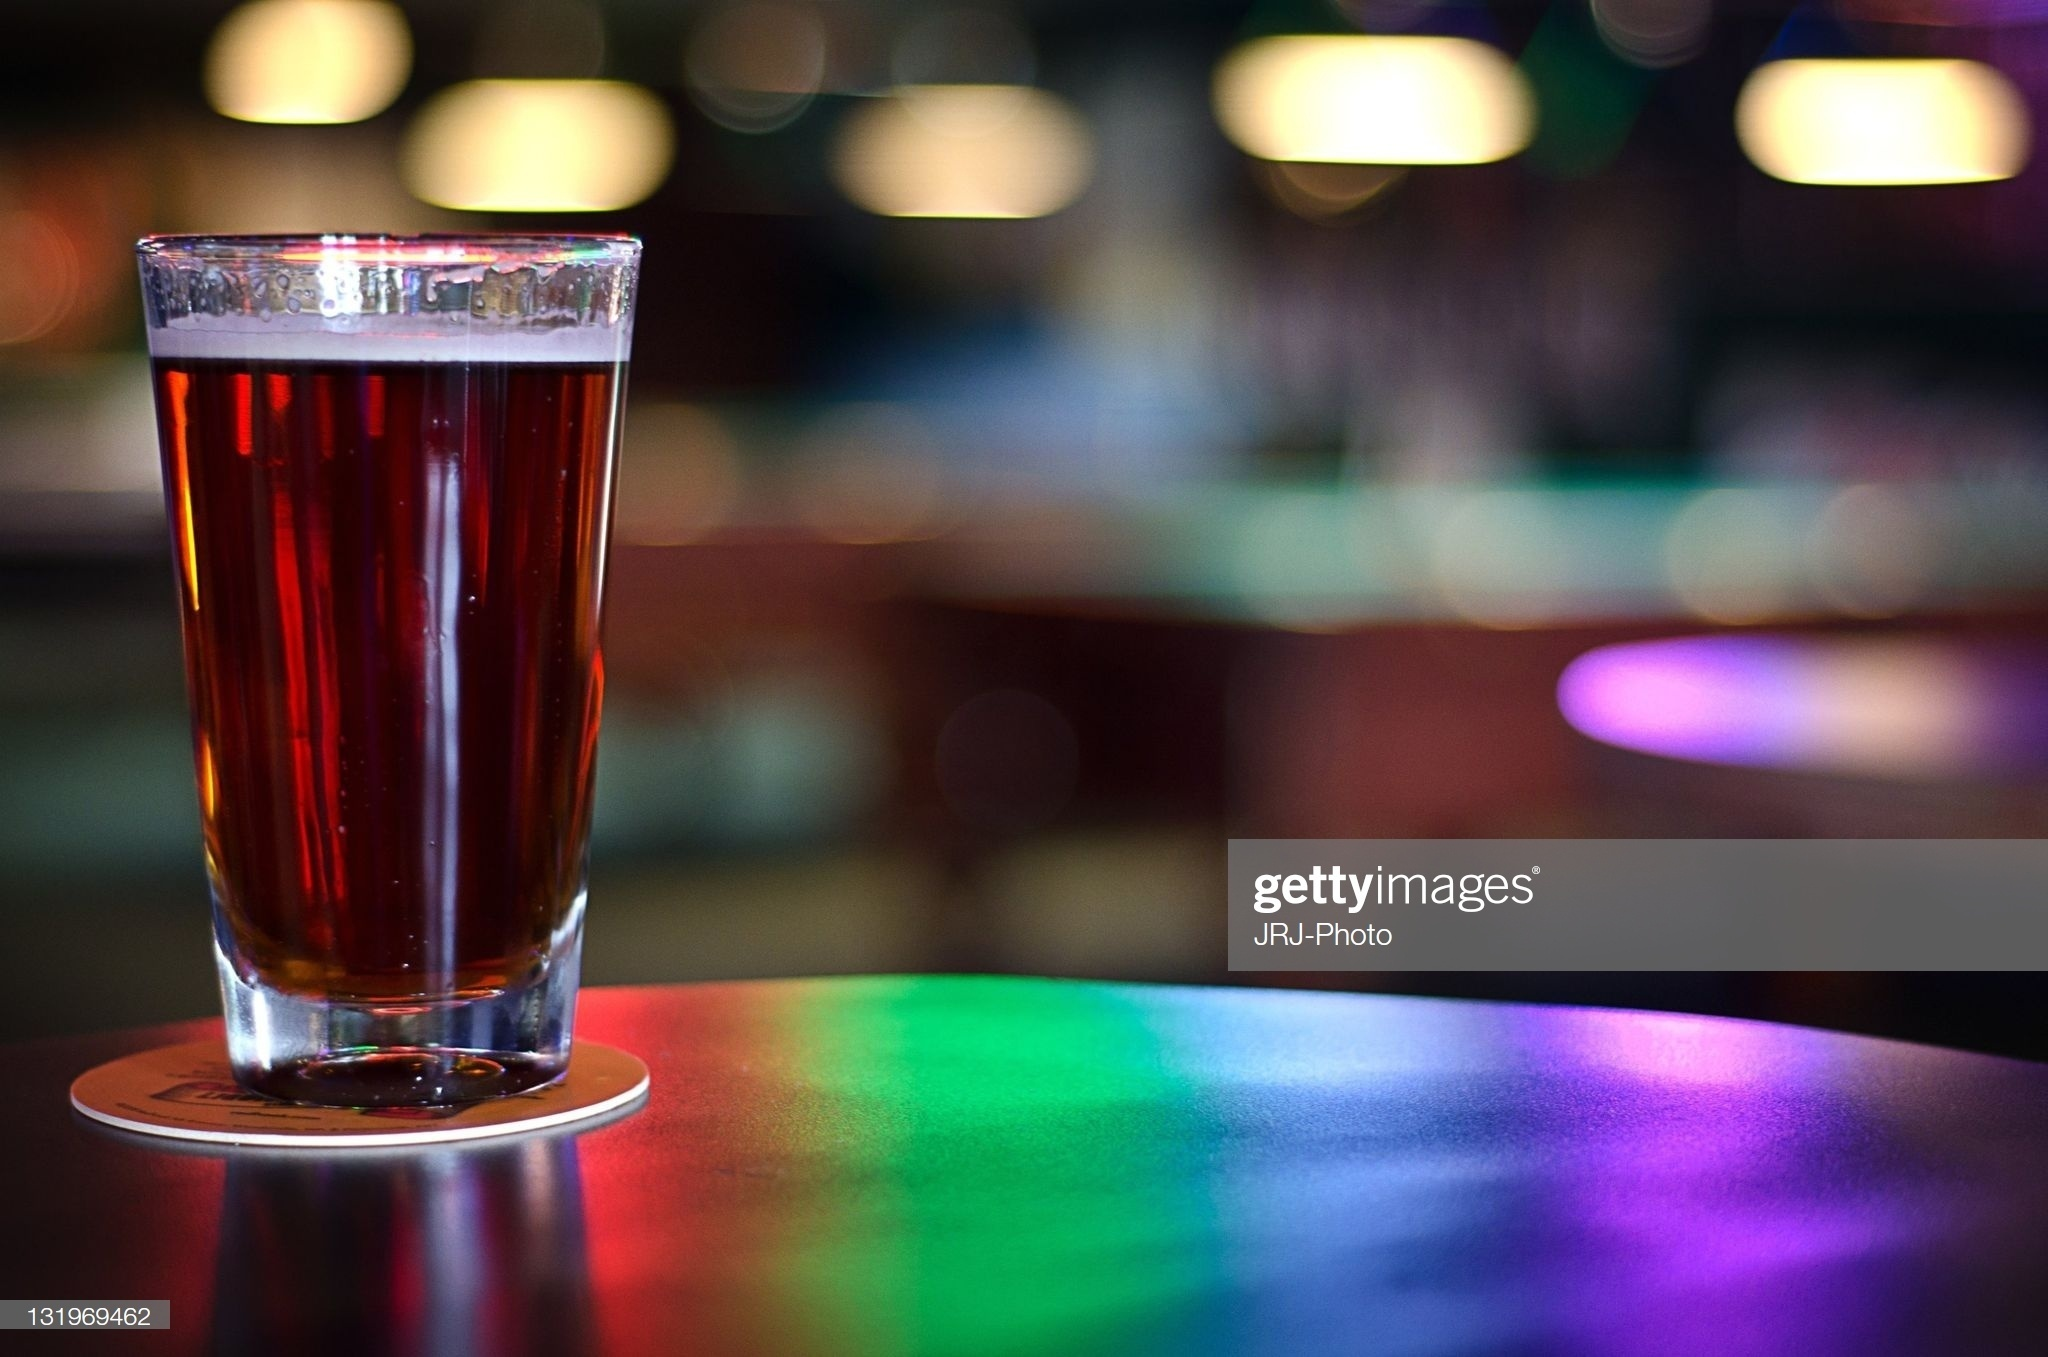whiskey: (148, 214, 669, 1093)
